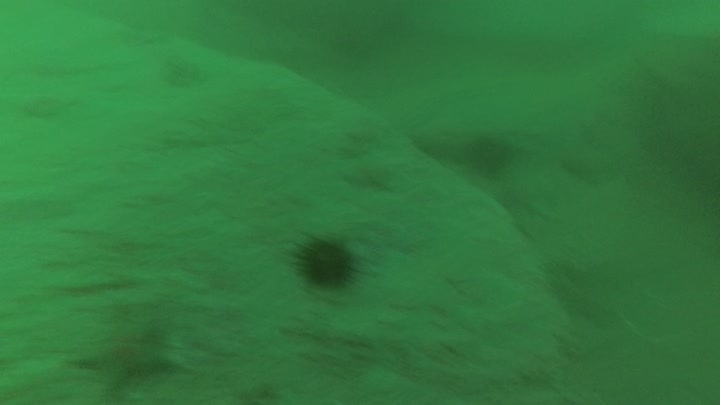echinus: (282, 226, 373, 294)
